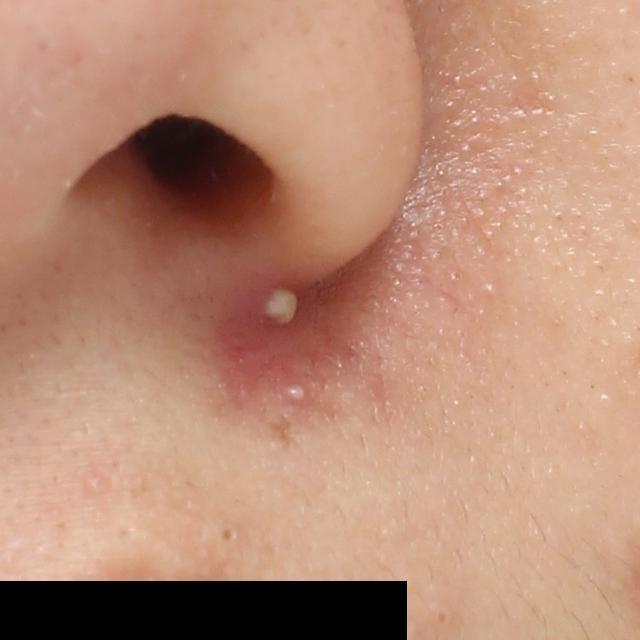comedo: (425, 602, 460, 634), (217, 524, 245, 548), (83, 473, 105, 496)
pustule: (254, 282, 310, 331), (280, 379, 312, 405)
